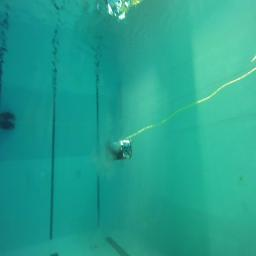Full: (0, 112, 16, 130)
Side: (106, 139, 134, 159)
